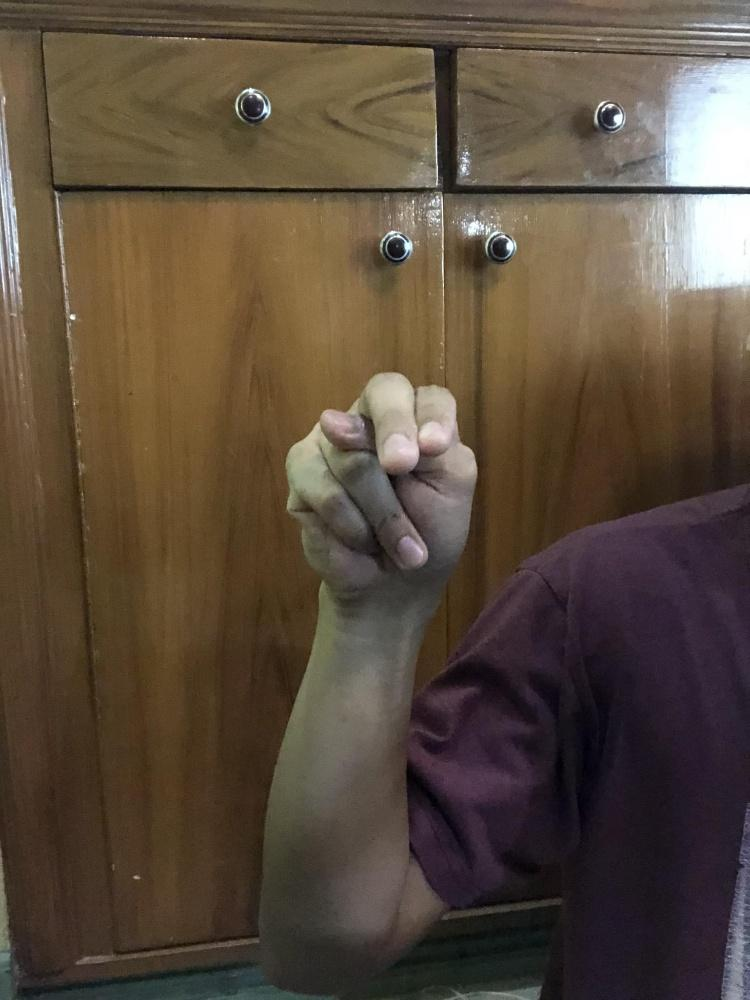n: (282, 370, 479, 604)
